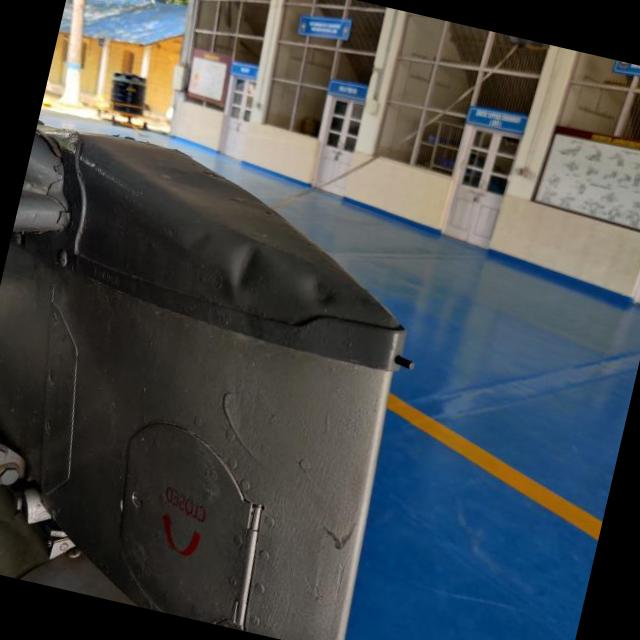Dent: (214, 236, 269, 312), (290, 260, 353, 322)
